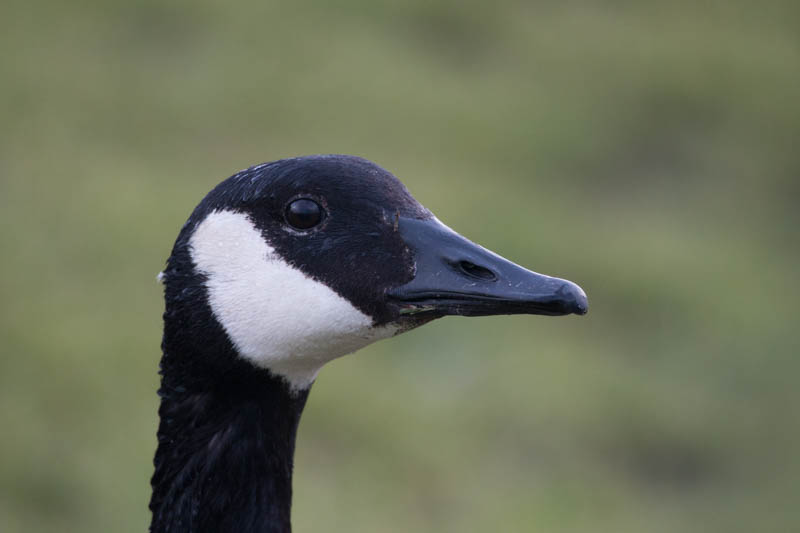goose-head: (163, 156, 591, 394)
